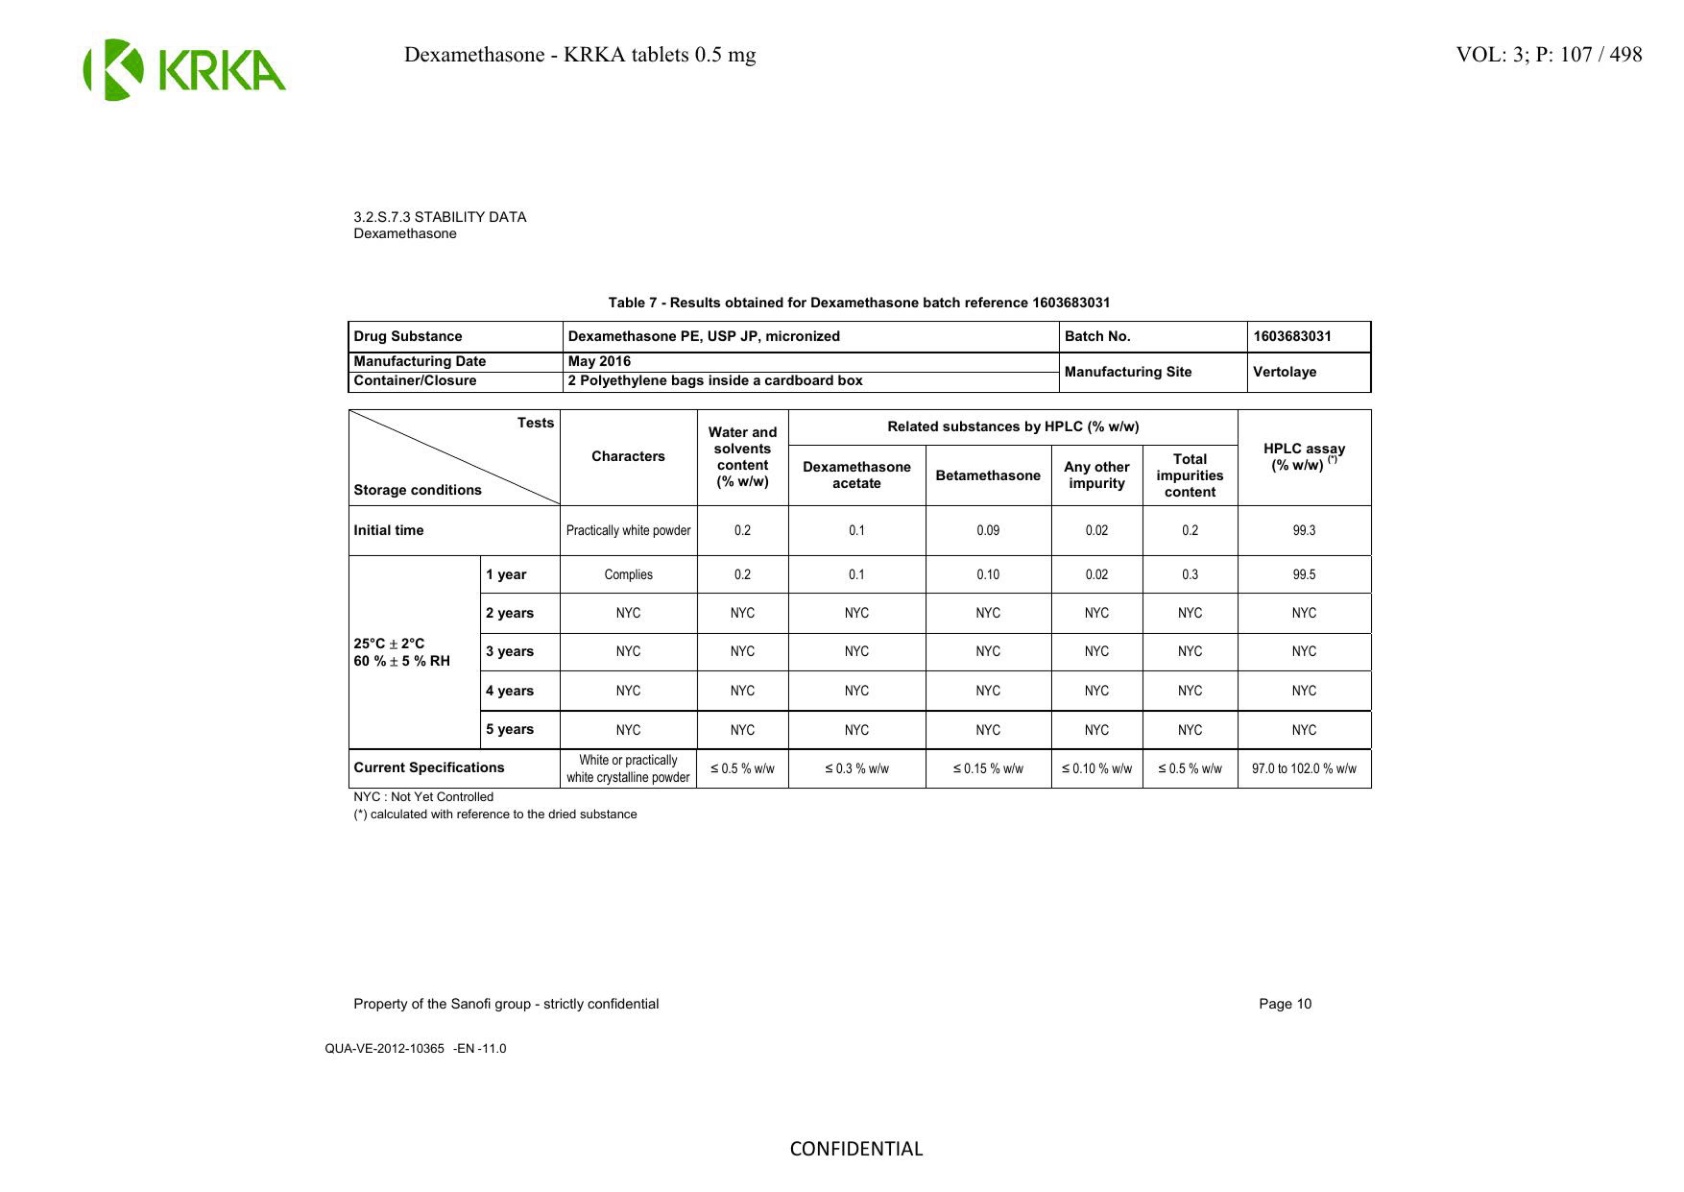merged_cells: (348, 408, 1373, 790), (347, 319, 1372, 393)
